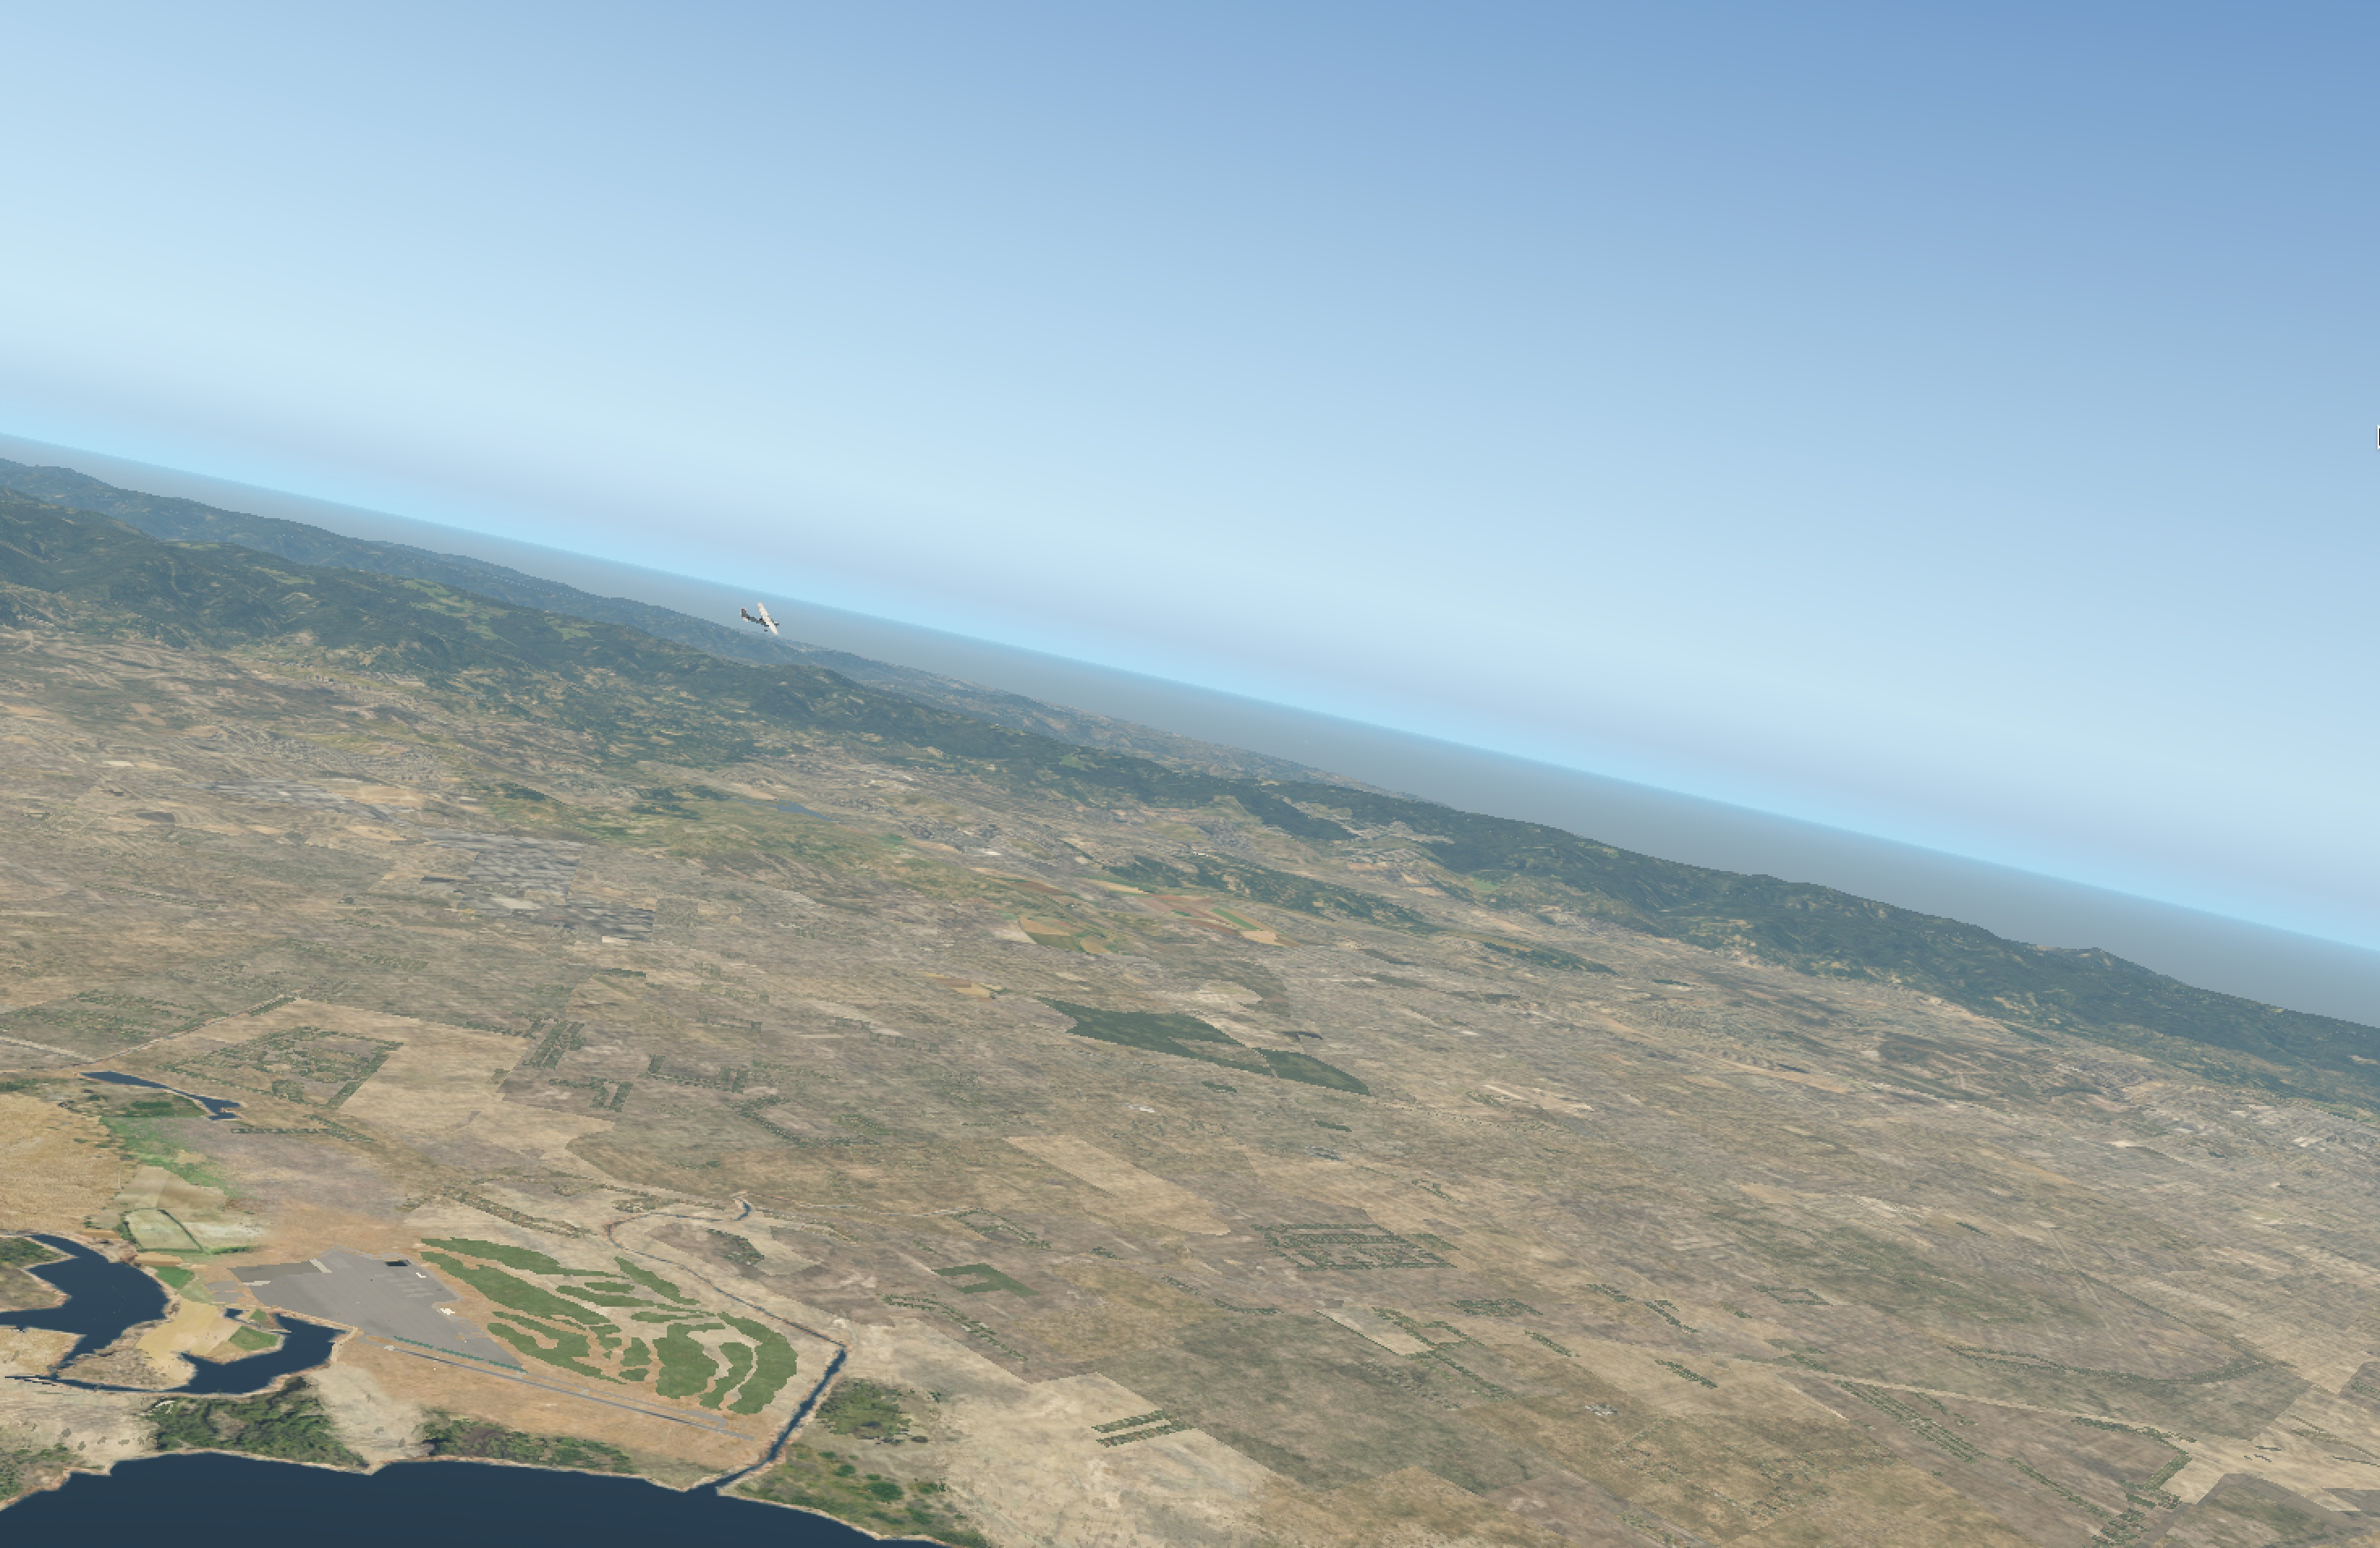aircraft: (746, 614, 789, 630)
